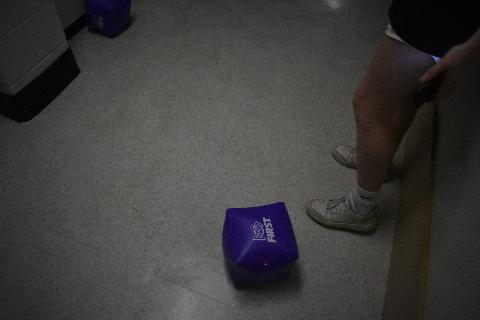cube: (222, 200, 300, 288), (85, 0, 133, 38)
